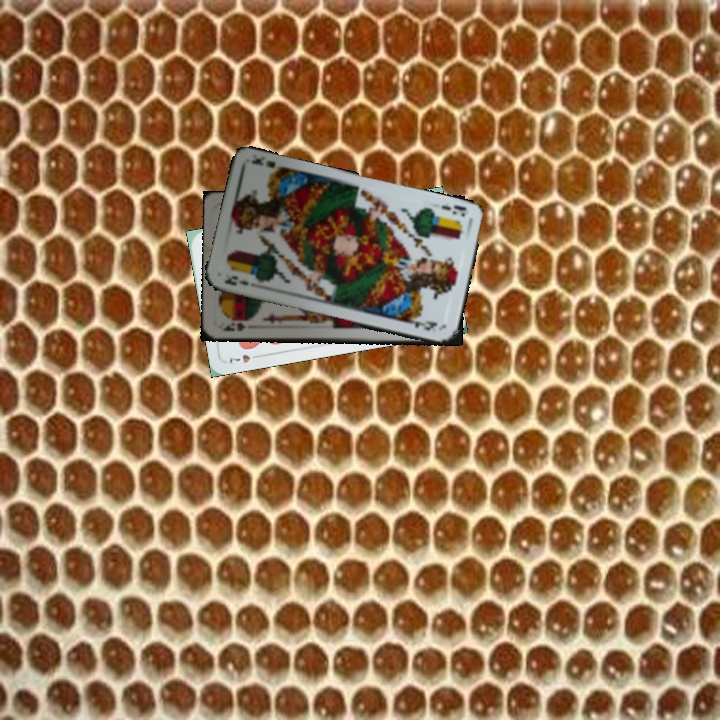EK: (437, 201, 470, 220), (220, 272, 252, 288)
H7: (225, 350, 264, 366)
SK: (219, 316, 253, 334)
